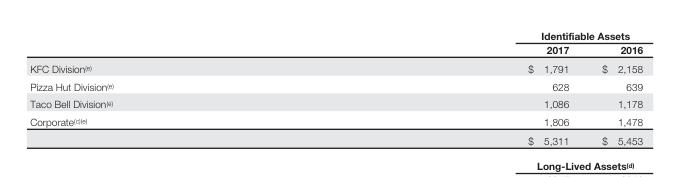table: (29, 29, 642, 146)
table column: (29, 29, 320, 146), (320, 29, 584, 146), (584, 29, 642, 146)
table column header: (29, 29, 642, 58)
table row: (29, 58, 642, 77), (29, 94, 642, 112), (29, 112, 642, 130), (29, 77, 642, 94), (29, 42, 642, 58), (29, 130, 642, 146), (29, 29, 642, 42)
table spanning cell: (320, 29, 642, 42)
